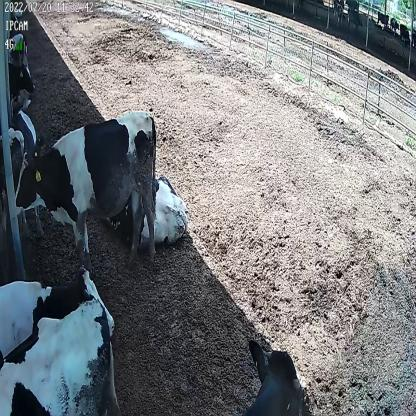cow: (13, 108, 158, 274)
